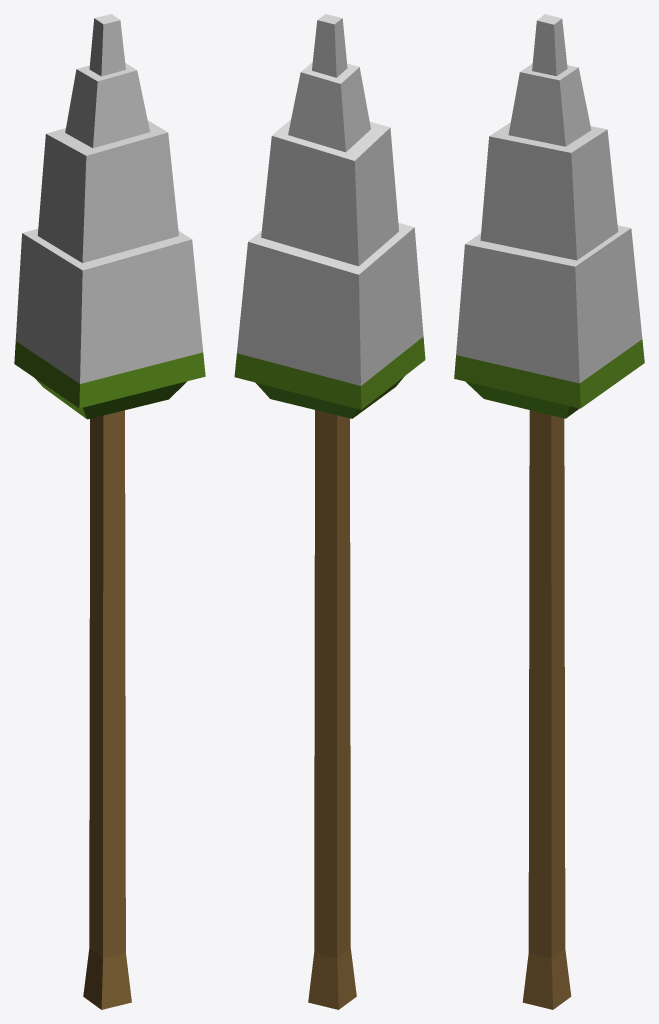
File: SF_Env_Tree_Snow_13.fbx
3 views of the same model, side by side, from view 1: azimuth 30°, elevation 25°; view 2: azimuth 150°, elevation 25°; view 3: azimuth 330°, elevation 25° (orthographic).
Parts seen in each view (by area): view 1: SF_Env_Tree_Snow_13; view 2: SF_Env_Tree_Snow_13; view 3: SF_Env_Tree_Snow_13.
Part boxes in pixels (x1,y1,x2,y2): SF_Env_Tree_Snow_13: (14, 14, 205, 1009); SF_Env_Tree_Snow_13: (234, 14, 425, 1009); SF_Env_Tree_Snow_13: (454, 14, 644, 1009).
Size of the model in its own units: 3.25 by 23.93 by 2.86.
